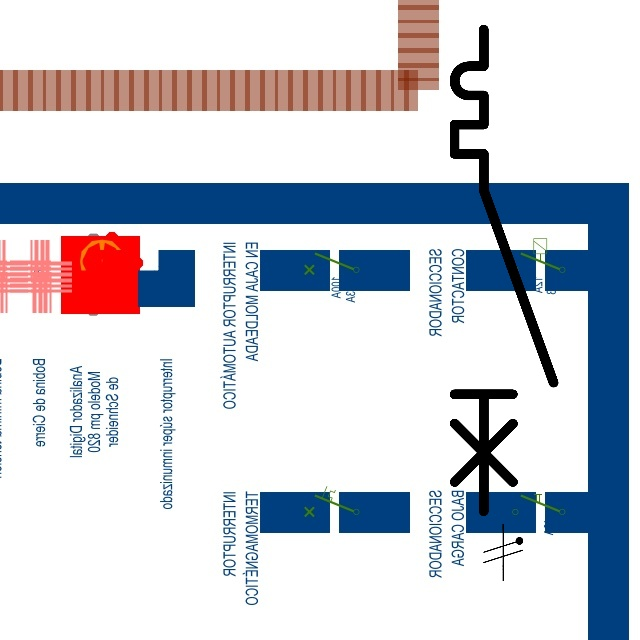interruptor_termomagnetico: (442, 17, 566, 523)
